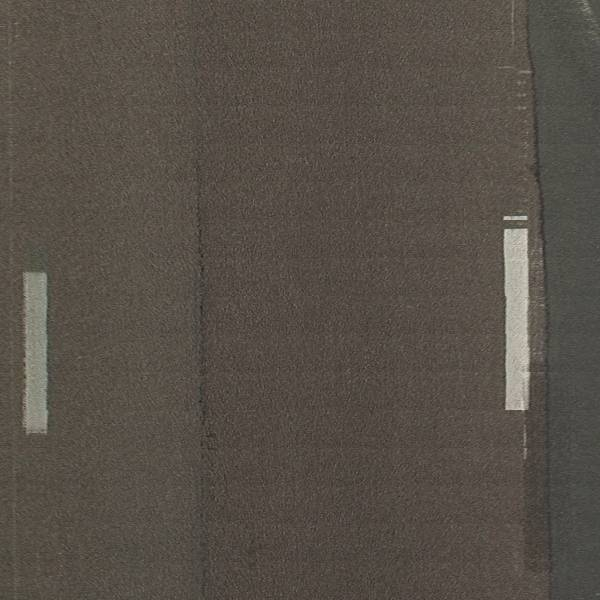road_damage: (189, 159, 218, 600)
